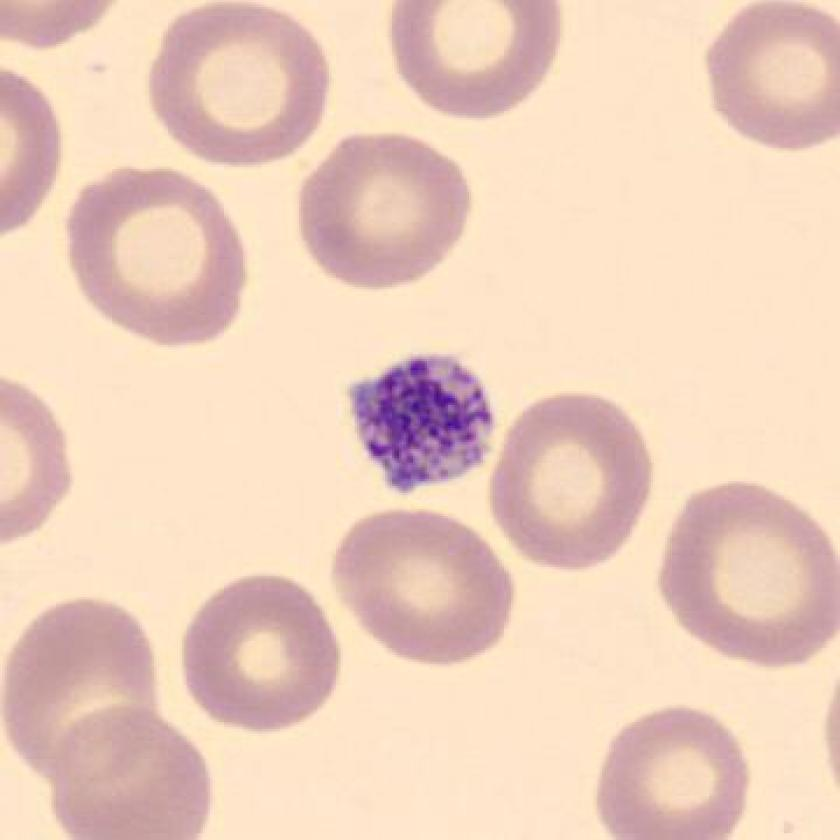platelets: (337, 344, 512, 503)
